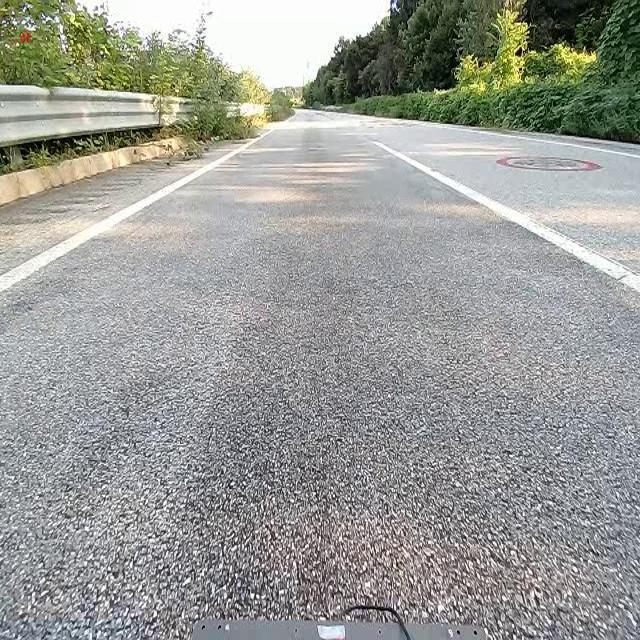Lane: (2, 118, 278, 297), (368, 135, 640, 313), (0, 129, 272, 294), (373, 142, 639, 293)
